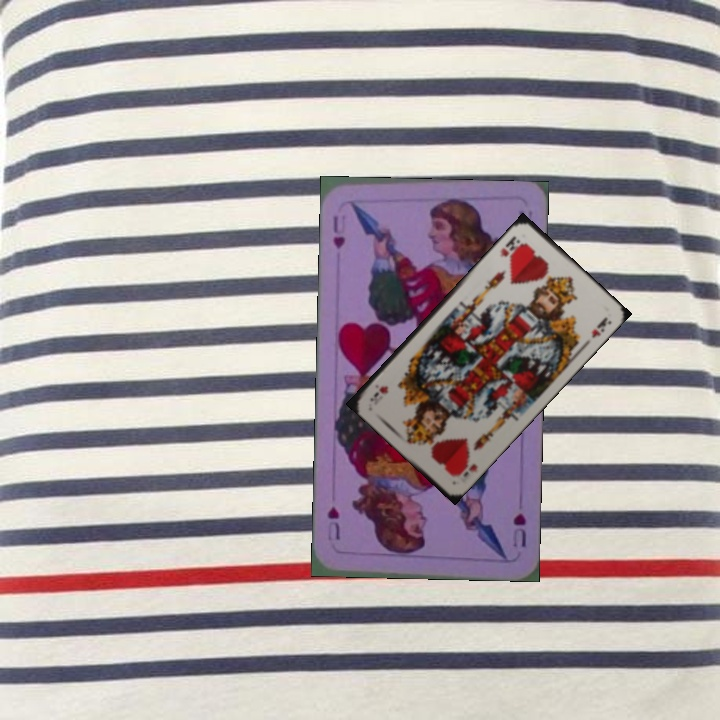HK: (496, 232, 525, 260), (449, 456, 480, 480)
HU: (509, 510, 529, 551), (328, 211, 348, 251)
